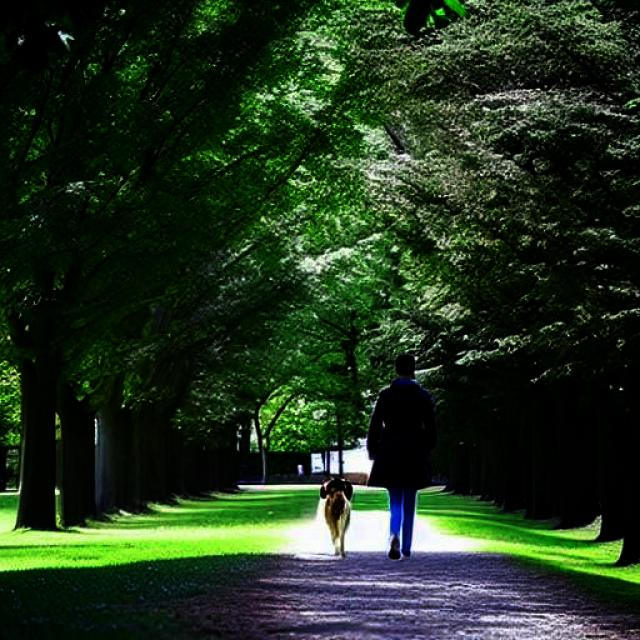Unleashed_Dog: (320, 453, 431, 559)
